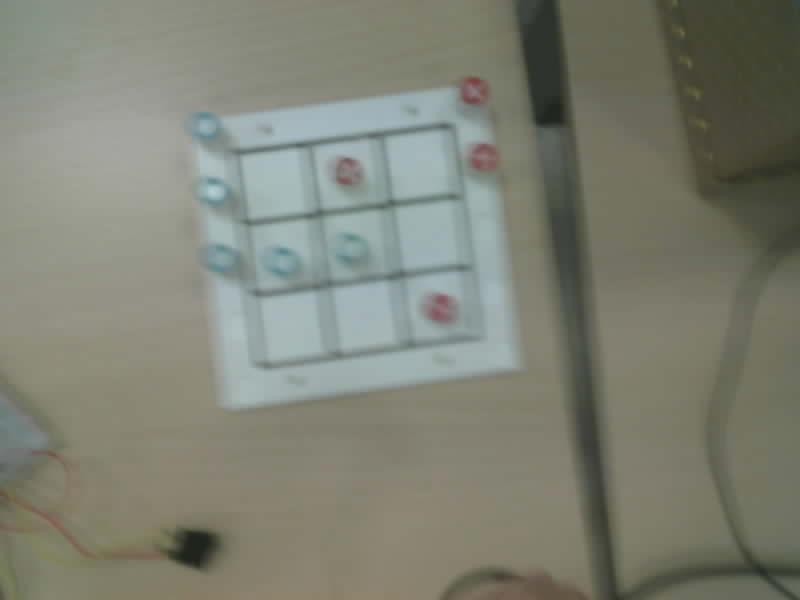blue circle: (265, 247, 301, 278), (335, 234, 368, 265), (204, 244, 238, 273), (196, 177, 229, 206), (189, 113, 221, 140)
board: (192, 78, 518, 408)
cells: (240, 148, 313, 220), (313, 138, 387, 209), (250, 219, 323, 290), (386, 129, 458, 200), (406, 271, 478, 341), (324, 210, 396, 280), (395, 200, 462, 270), (333, 281, 397, 352), (261, 291, 324, 362)
grid: (237, 126, 481, 367)
red cross: (422, 293, 457, 322), (333, 157, 363, 184), (468, 143, 498, 170), (460, 76, 488, 104)
